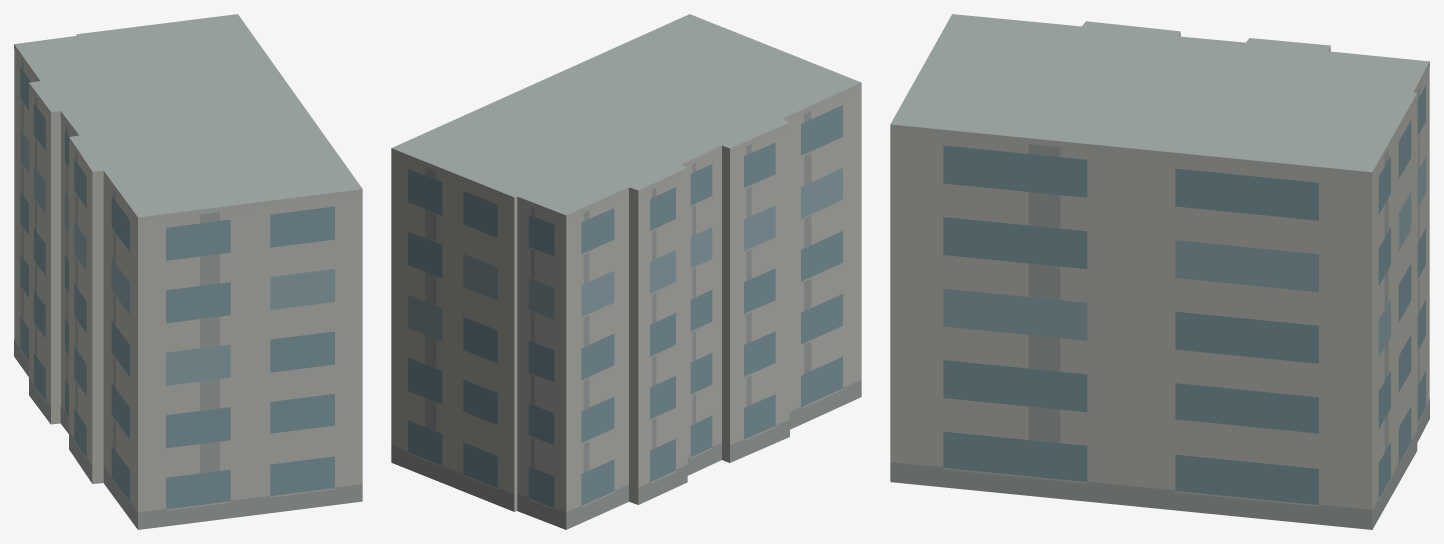
The model's file is survey-upis-32850267.glb.
3 renders of one model, left to right at view 1: azimuth 30°, elevation 25°; view 2: azimuth 150°, elevation 25°; view 3: azimuth 270°, elevation 25°, orthographic. The views are drawn at different scales.
Visible parts, largest first — view 1: survey-upis-32850267.tmp; view 2: survey-upis-32850267.tmp; view 3: survey-upis-32850267.tmp.
Part boxes in pixels (bbox=[...]): survey-upis-32850267.tmp: bbox=[14, 14, 362, 529]; survey-upis-32850267.tmp: bbox=[391, 14, 861, 529]; survey-upis-32850267.tmp: bbox=[890, 14, 1429, 529].
Bounding box in the file's own units: 13.96 × 14.7 × 20.11.
